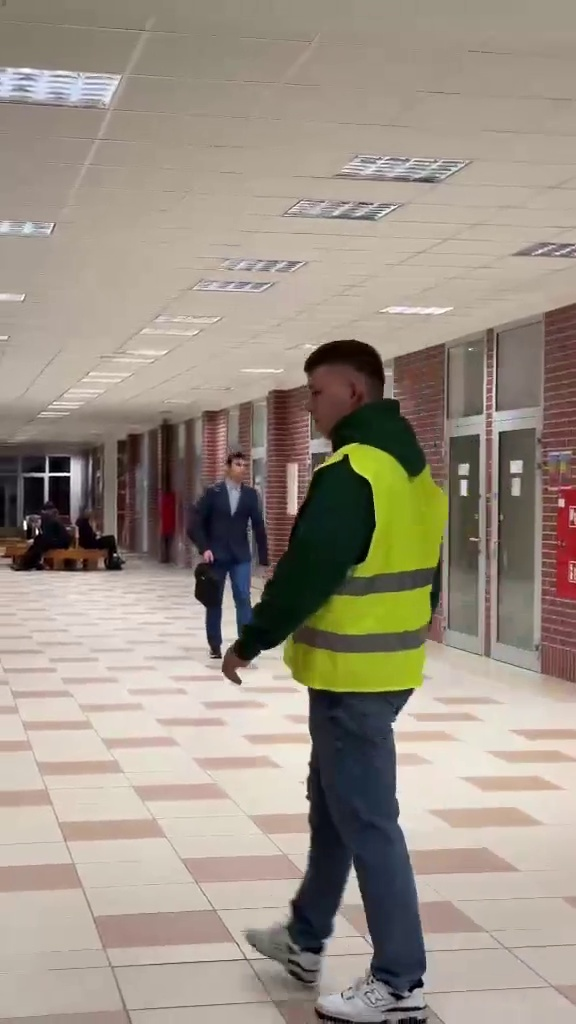no vest: (195, 450, 261, 655)
vest: (248, 338, 448, 1018)
